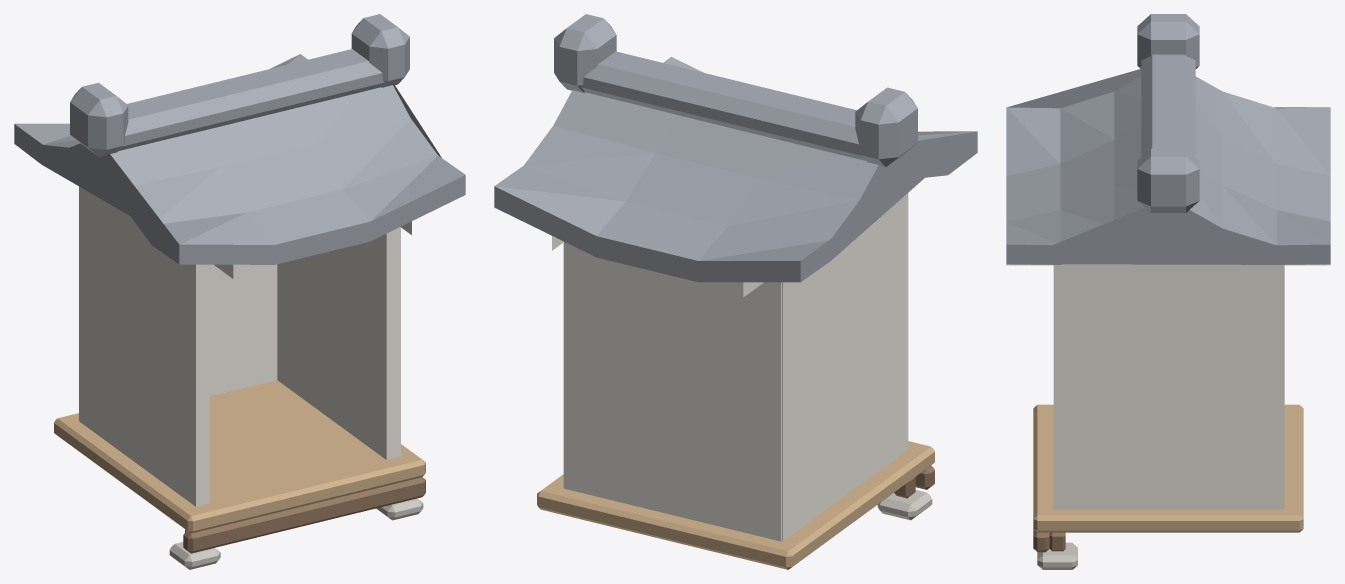
The model's file is feudal-japan-castle-town-guard-post-8e7fe855__26509.glb.
The picture shows the model from 3 angles, left to right: view 1: azimuth 30°, elevation 25°; view 2: azimuth 150°, elevation 25°; view 3: azimuth 270°, elevation 25°; orthographic projection. The views are drawn at different scales.
Visible parts, largest first — view 1: guard-post; view 2: guard-post; view 3: guard-post.
Boxes of the visible parts, bbox=[...] form: guard-post: bbox=[14, 14, 465, 569]; guard-post: bbox=[494, 14, 977, 569]; guard-post: bbox=[1006, 14, 1330, 569].
Bounding box in the file's own units: 2.7 × 3.51 × 2.4.
